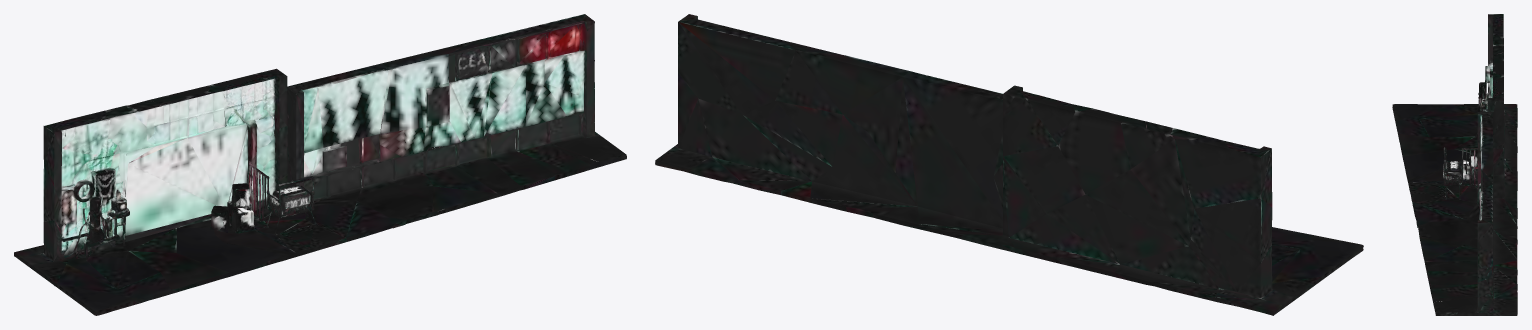
Rendered from select.glb.
3 views of the same model, side by side, from view 1: azimuth 30°, elevation 25°; view 2: azimuth 150°, elevation 25°; view 3: azimuth 270°, elevation 25° (orthographic). The views are drawn at different scales.
Parts seen in each view (by area): view 1: Mesh_0; view 2: Mesh_0; view 3: Mesh_0.
Part boxes in pixels (x1,y1,x2,y2): Mesh_0: (14,14,626,315); Mesh_0: (655,14,1363,315); Mesh_0: (1392,14,1517,315).
Bounding box in the file's own units: 18 × 4.07 × 4.56.
Materials: 1 (1 with a texture image).
